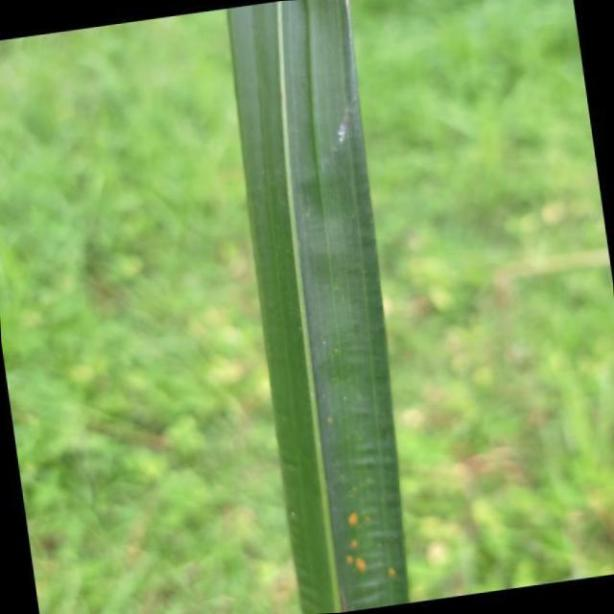Boron: (226, 0, 412, 614)
